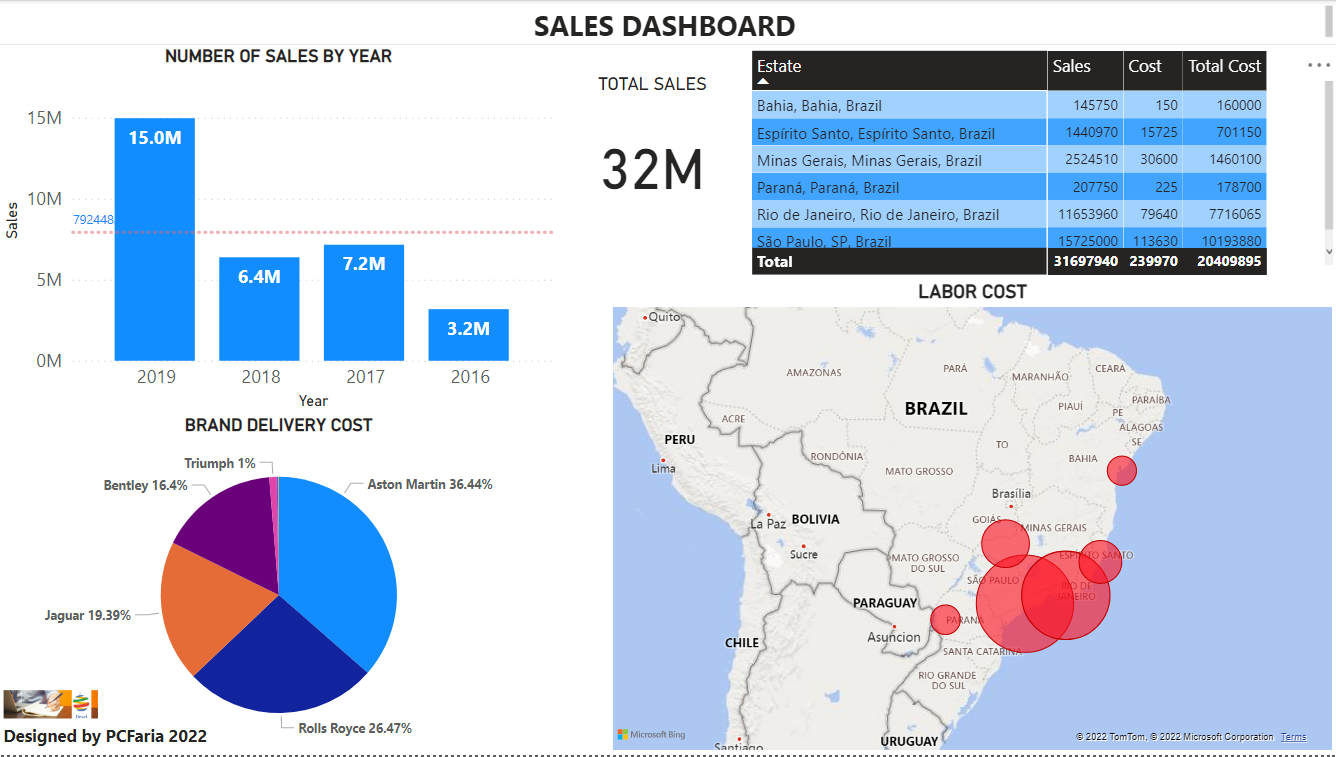

The dashboard page shown, as its layout file describes it:
{"tool":"powerbi","page":{"name":"Page 1","canvas":[1280,720],"ordinal":0},"visuals":[{"type":"clusteredColumnChart","title":"NUMBER OF SALES BY YEAR","fields":{"Y":["Sum(VendaCarros.ValorVenda)"],"Category":["VendaCarros.Ano"]},"box":[0,42.9,535.3,352.1],"z":0},{"type":"pieChart","title":"BRAND DELIVERY COST","fields":{"Y":["Sum(VendaCarros.CustoEntrega)"],"Category":["VendaCarros.Fabricante"]},"box":[0,394.7,535.9,325.7],"z":1000},{"type":"pivotTable","fields":{"Rows":["VendaCarros.Estado"],"Values":["Sum(VendaCarros.ValorVenda)","Sum(VendaCarros.CustoEntrega)","Sum(VendaCarros.ValorCusto)"]},"box":[713.6,42.9,565.8,224.1],"z":2000},{"type":"map","title":"LABOR COST","fields":{"Category":["VendaCarros.Estado"],"Size":["Sum(VendaCarros.CustoMaoDeObra)"]},"box":[581.7,267,697.7,453],"z":3000},{"type":"card","title":"TOTAL SALES","fields":{"Values":["Sum(VendaCarros.ValorVenda)"]},"box":[535.2,69.9,177.9,149.3],"z":4000},{"type":"textbox","box":[0,0,1279.7,42.9],"z":5000},{"type":"image","box":[0,631,100.1,89],"z":5001},{"type":"textbox","box":[0,685,219.3,35],"z":5003}]}

Visuals, with their boxes in screenshot pixels (x1, y1, x2, y2), scaled from the page's 1280x720 canvas onto the 1336x757 screenshot:
"NUMBER OF SALES BY YEAR" clusteredColumnChart: 0/45/559/415
"BRAND DELIVERY COST" pieChart: 0/415/559/756
pivotTable - VendaCarros.Estado x Sum(VendaCarros.ValorVenda): 745/45/1335/281
"LABOR COST" map: 607/281/1335/756
"TOTAL SALES" card: 559/73/744/230
textbox: 0/0/1335/45
image: 0/663/104/756
textbox: 0/720/229/756
